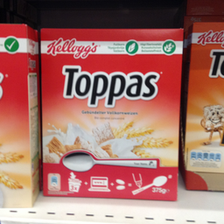cereal: (40, 27, 183, 201), (185, 22, 222, 193)
